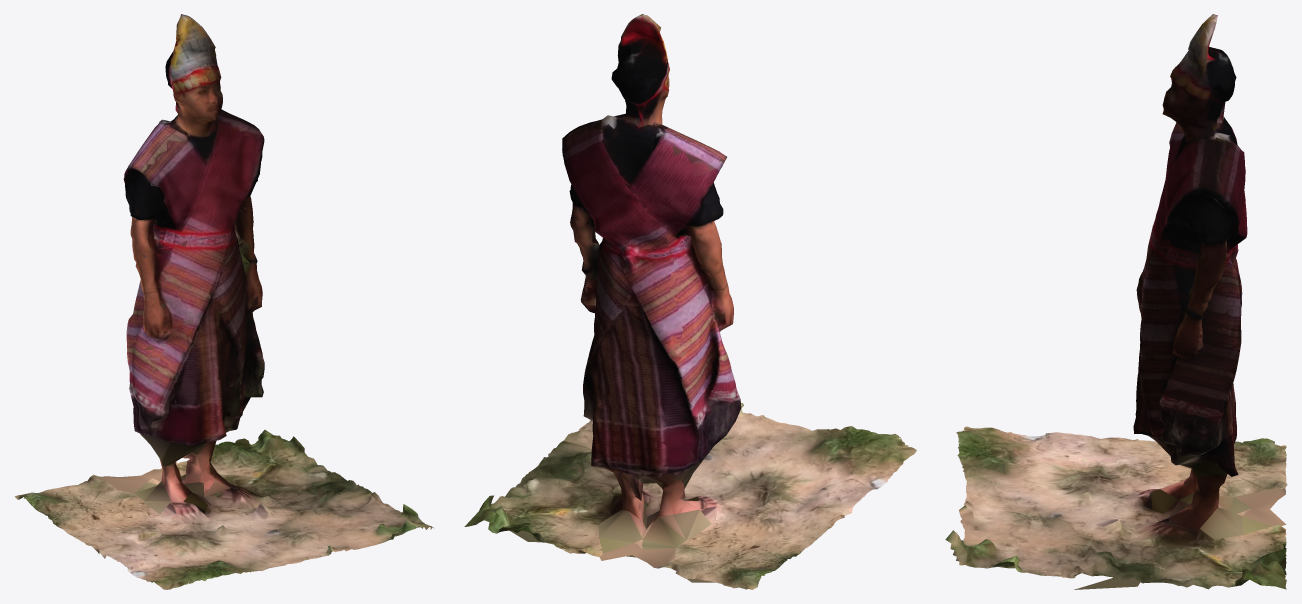
Rendered from busana-batak-laki.glb.
3 renders of one model, left to right at view 1: azimuth 30°, elevation 25°; view 2: azimuth 150°, elevation 25°; view 3: azimuth 270°, elevation 25°, orthographic. The views are drawn at different scales.
Visible parts, largest first — view 1: Cowok_Model_1_mesh_Model_1_u1_v1.001_0; view 2: Cowok_Model_1_mesh_Model_1_u1_v1.001_0; view 3: Cowok_Model_1_mesh_Model_1_u1_v1.001_0.
Boxes of the visible parts, x1,y1,x2,y2 form: Cowok_Model_1_mesh_Model_1_u1_v1.001_0: (14,14,434,589); Cowok_Model_1_mesh_Model_1_u1_v1.001_0: (464,14,916,589); Cowok_Model_1_mesh_Model_1_u1_v1.001_0: (945,14,1287,589).
Bounding box in the file's own units: 25.39 × 43.57 × 26.65.
1 material, 1 textured.
